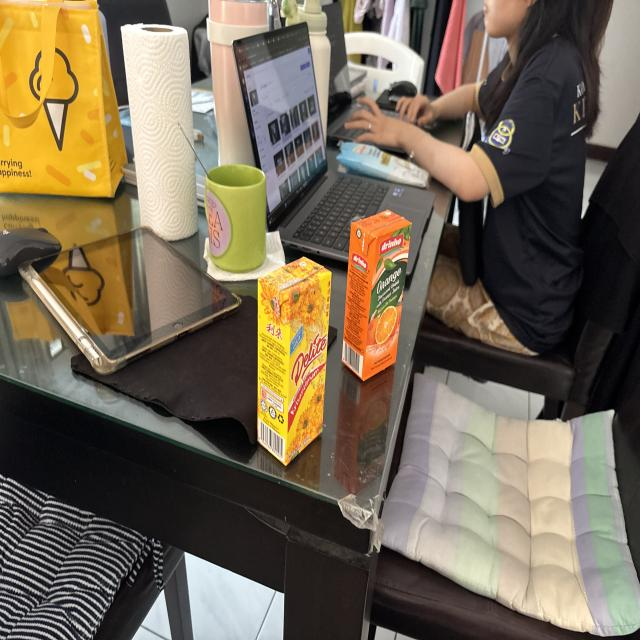drink_carton: (252, 248, 334, 474), (338, 205, 416, 392)
